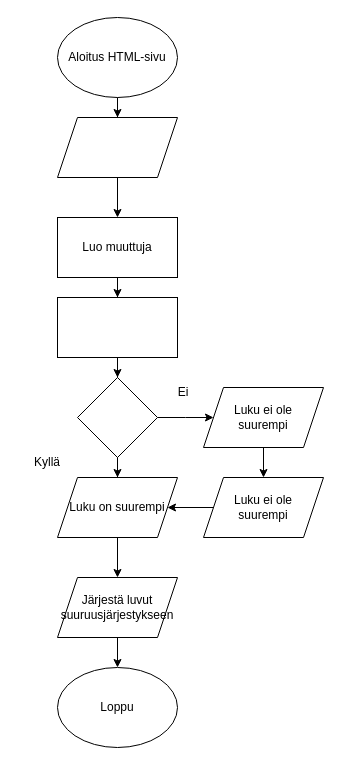
The diagram is 341 pixels wide and 765 high, and some of its shapes have lost their labels. Each missing label, with the centre of its shape:
"Lue muuttujaan käyttäjän luku" belongs at point (117, 327).
"onko muuttuja suurempi kuin" belongs at point (117, 417).
"Pyydä käyttäjältä luku" belongs at point (117, 147).
